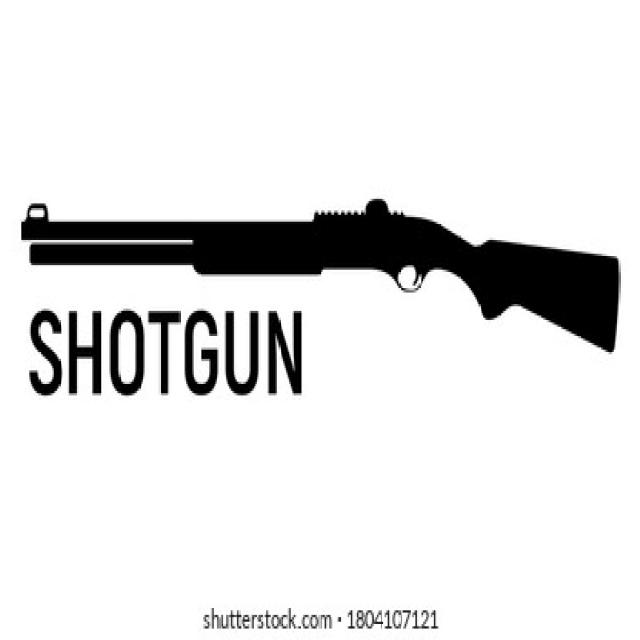Short-Gun: (15, 174, 628, 428)
